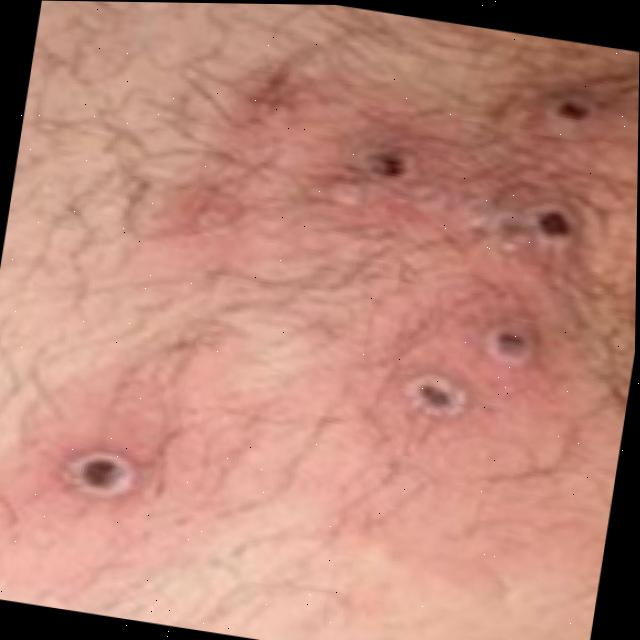Eczema: (411, 49, 610, 429), (61, 441, 137, 507), (358, 138, 406, 188)
